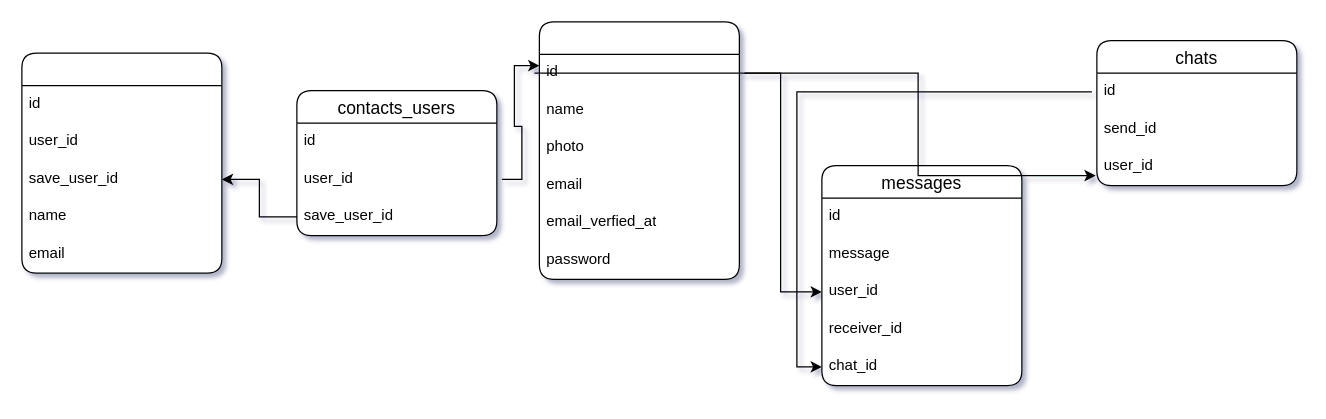
This 1326x419 diagram has some shape labels left out. Each missing label, with the box of its shape:
contacts: (21, 52, 222, 273)
Users: (538, 21, 739, 279)
